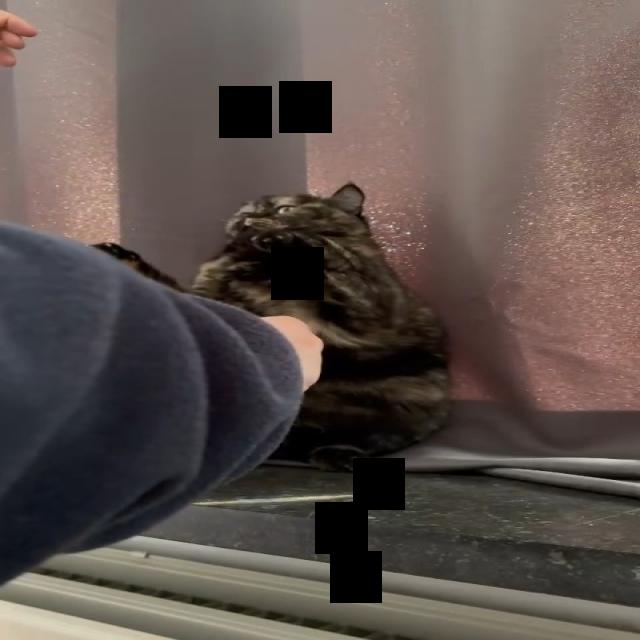authorized: (88, 180, 455, 472)
